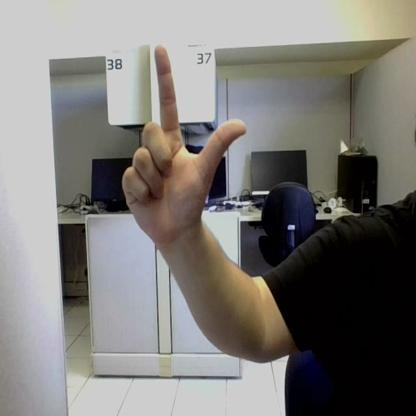L: (122, 46, 246, 241)
